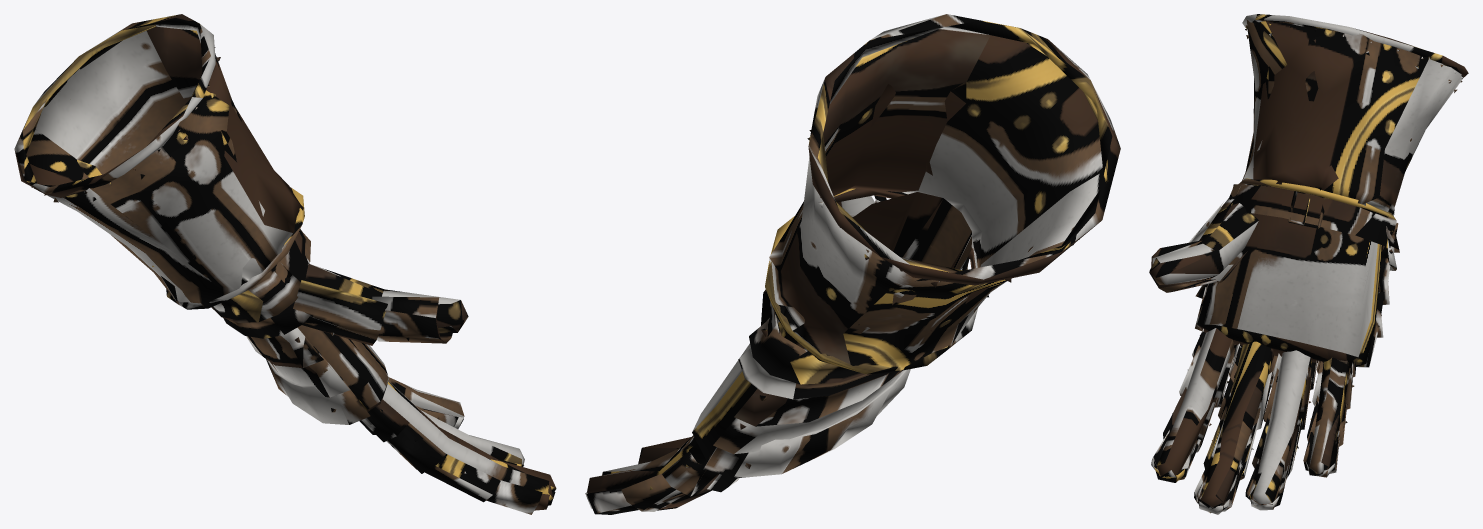
The model's file is SM_EagleGauntlets_L_LOD3.fbx.
The picture shows the model from 3 angles, left to right: view 1: azimuth 30°, elevation 25°; view 2: azimuth 150°, elevation 25°; view 3: azimuth 270°, elevation 25°; orthographic projection. The views are drawn at different scales.
Parts seen in each view (by area): view 1: SM_EagleGauntlets_L_LOD3; view 2: SM_EagleGauntlets_L_LOD3; view 3: SM_EagleGauntlets_L_LOD3.
Part boxes in pixels (bbox=[...]): SM_EagleGauntlets_L_LOD3: bbox=[14, 14, 556, 514]; SM_EagleGauntlets_L_LOD3: bbox=[585, 14, 1120, 514]; SM_EagleGauntlets_L_LOD3: bbox=[1149, 14, 1468, 514].
Size of the model in its own units: 0.259 by 0.2721 by 0.2026.
